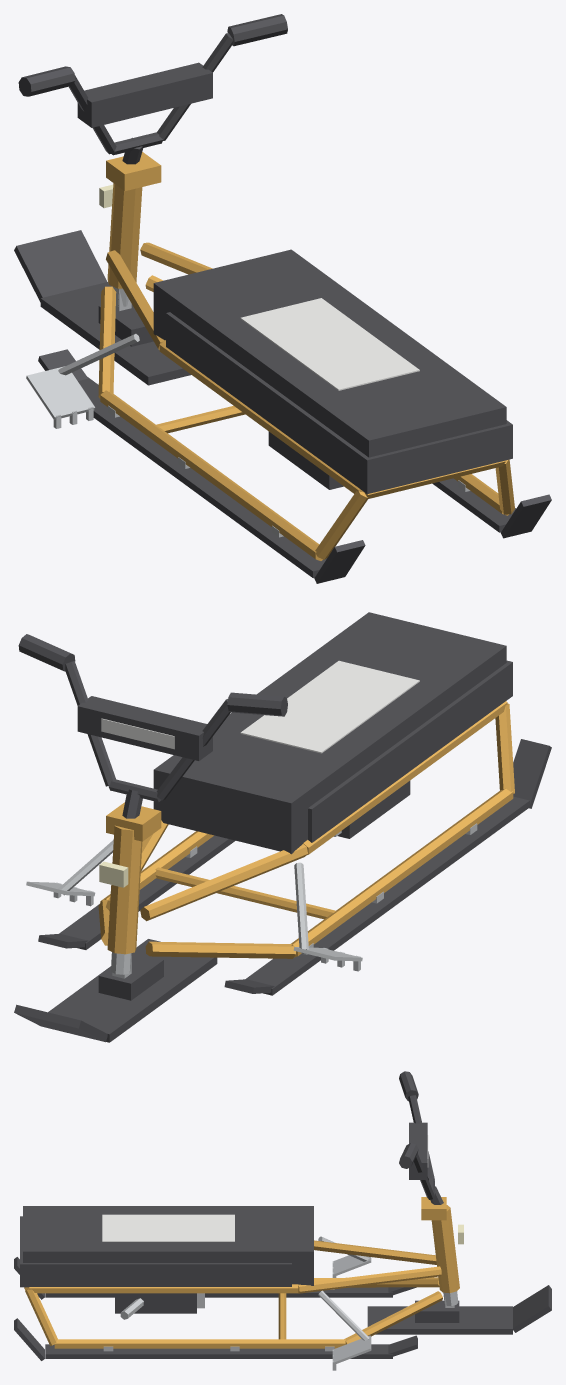
Rendered from snowracer.glb.
The picture shows the model from 3 angles, top to bottom: view 1: azimuth 30°, elevation 25°; view 2: azimuth 150°, elevation 25°; view 3: azimuth 270°, elevation 25°; orthographic projection. The views are drawn at different scales.
Parts seen in each view (by area): view 1: body, ski_F; view 2: body, ski_F; view 3: body, ski_F.
Boxes of the visible parts, left/top/right/bottom form: body: left=18, top=14, right=551, bottom=583; ski_F: left=14, top=230, right=191, bottom=385; body: left=18, top=612, right=551, bottom=995; ski_F: left=14, top=939, right=217, bottom=1042; body: left=14, top=1071, right=463, bottom=1370; ski_F: left=367, top=1285, right=551, bottom=1334.
Bounding box in the file's own units: 0.76 × 0.7408 × 1.7.
